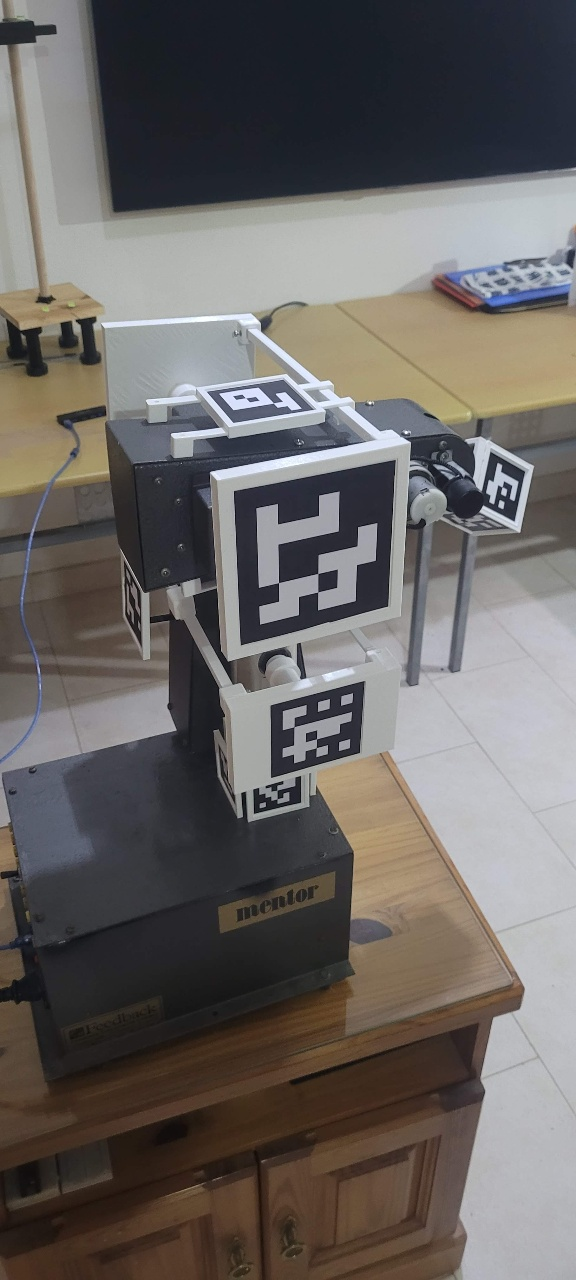Robot: (23, 277, 533, 1130)
